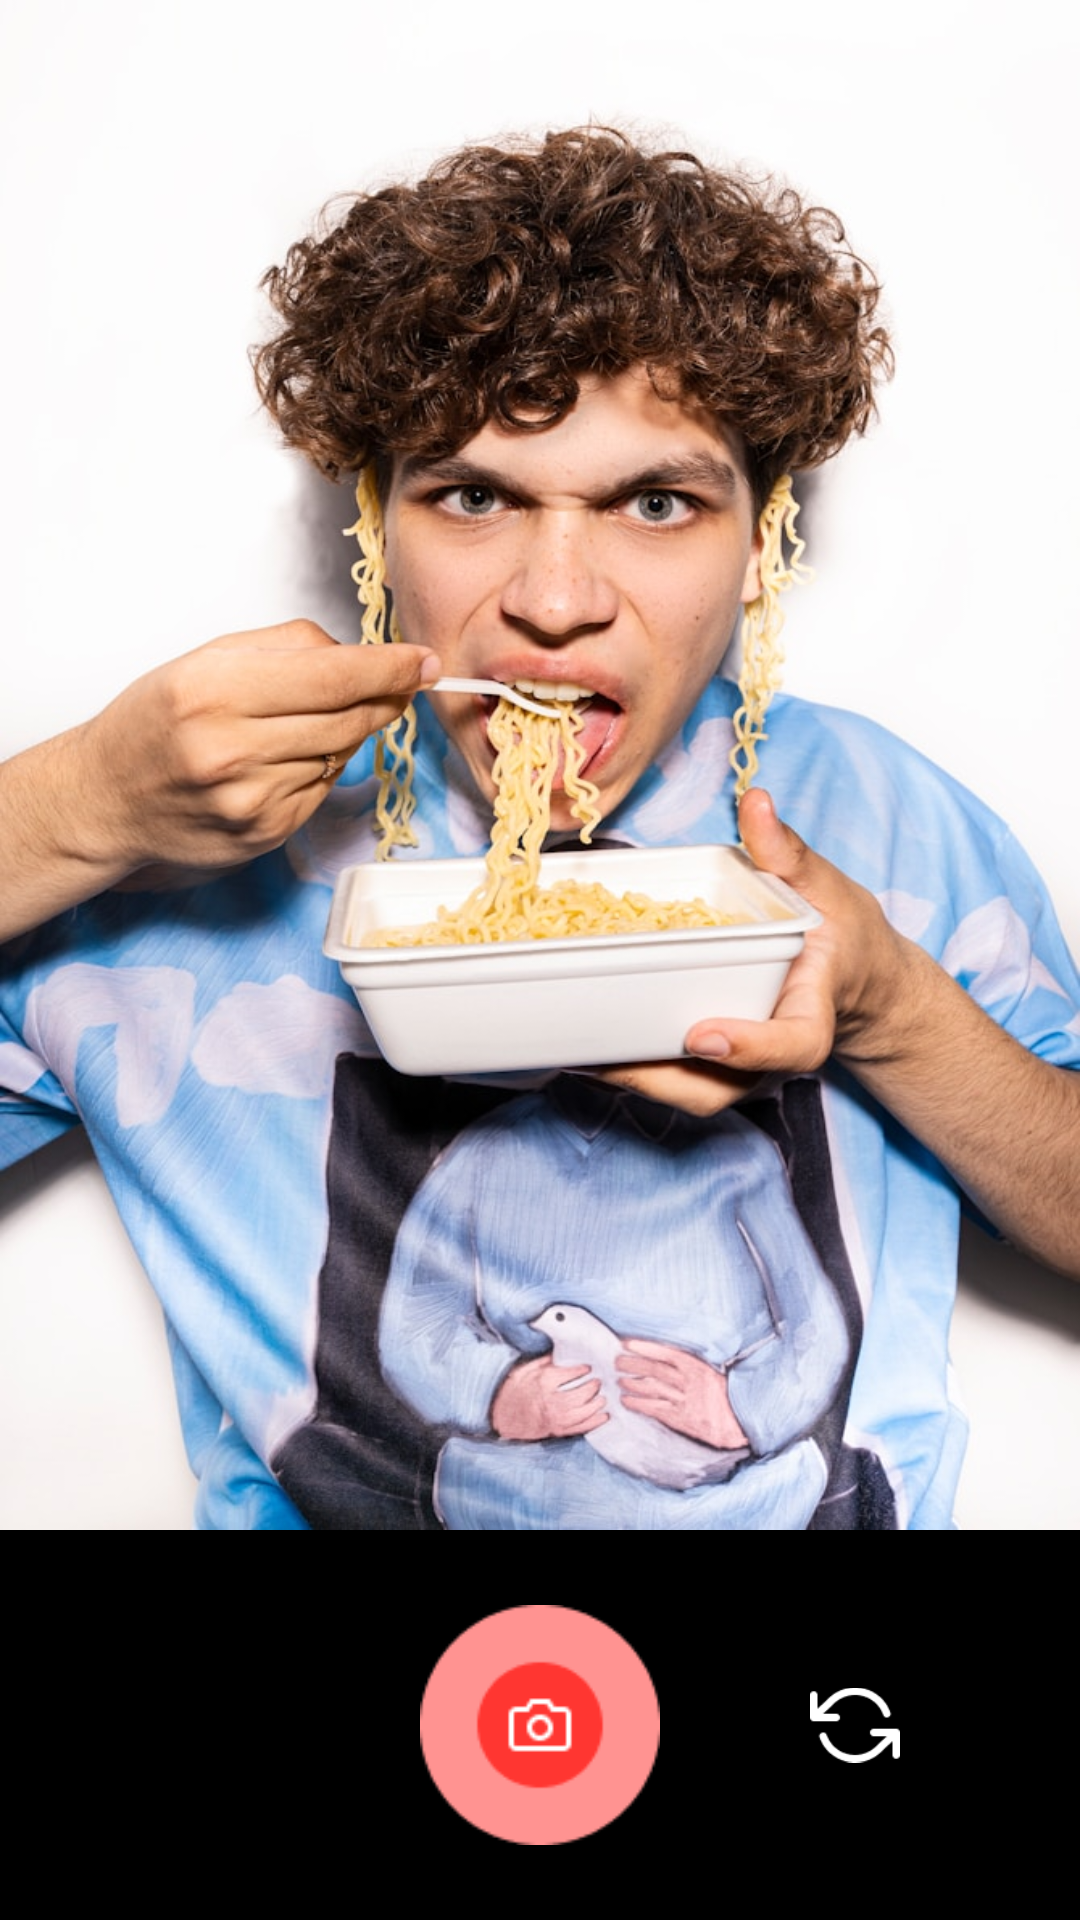

Where icons sit on this 1080x1920 app screen, as (x1, y1, x2, y2):
camera: (420, 1605, 660, 1845)
change camera: (810, 1688, 900, 1763)
